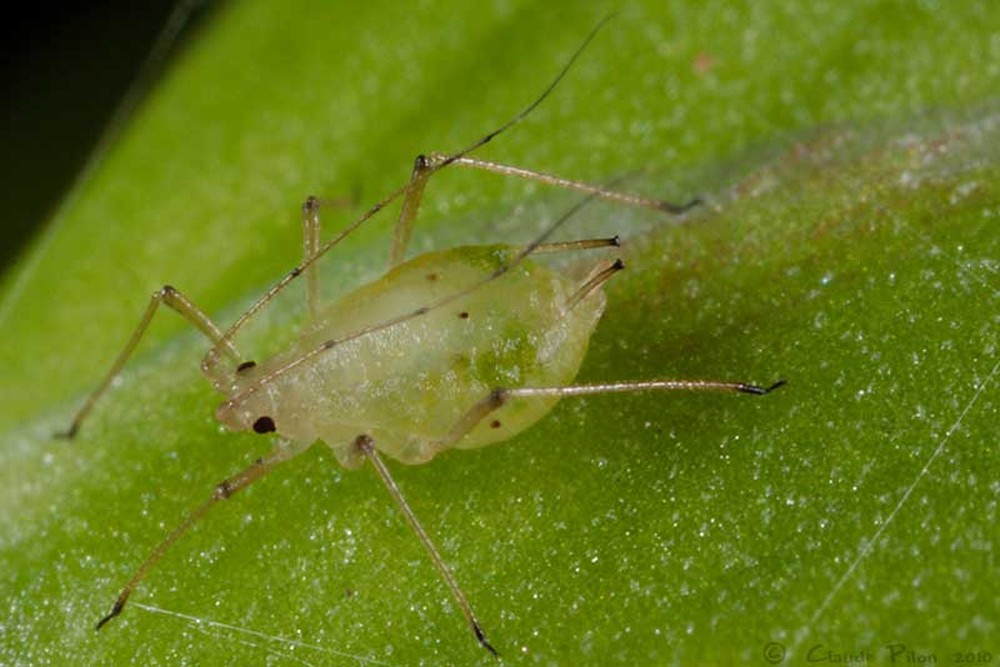Pulgon: (54, 91, 784, 652)
